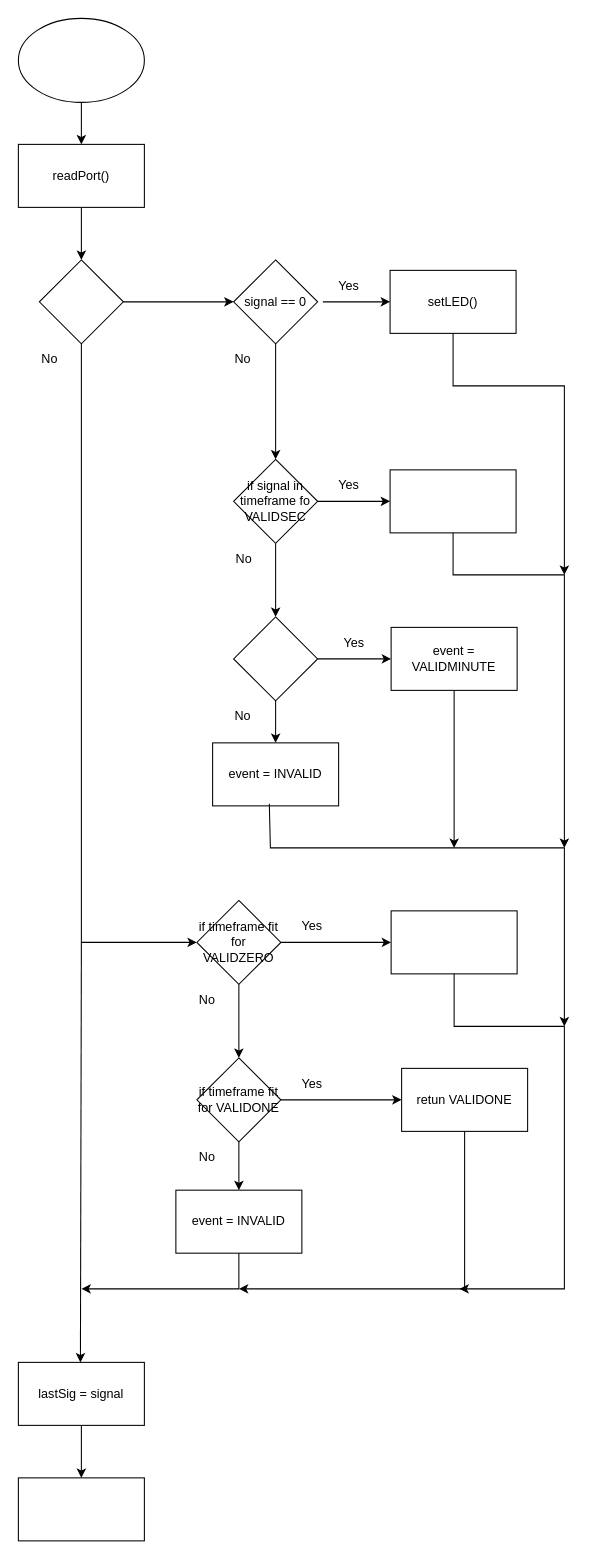
Image size: 591x1559. Some labels were removed from this diagram. The box of each missing label's shape, as (x1, y1, x2, y2) in pixels:
event = VALIDSECOND: (389, 469, 516, 533)
if signal in timeframe fo VALIDMInute: (233, 616, 318, 701)
return event: (17, 1477, 144, 1541)
returne VALIDZERO: (390, 910, 517, 974)
sampleSignalDCF77(): (17, 17, 144, 102)
signal != dcf77LastSignal: (38, 259, 123, 344)
